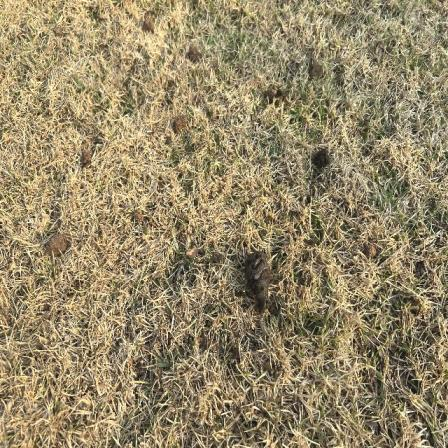dog-poop: (241, 244, 281, 316)
